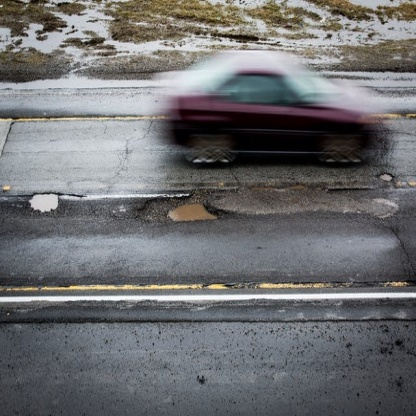pothole: (132, 182, 245, 232), (19, 183, 79, 223)
